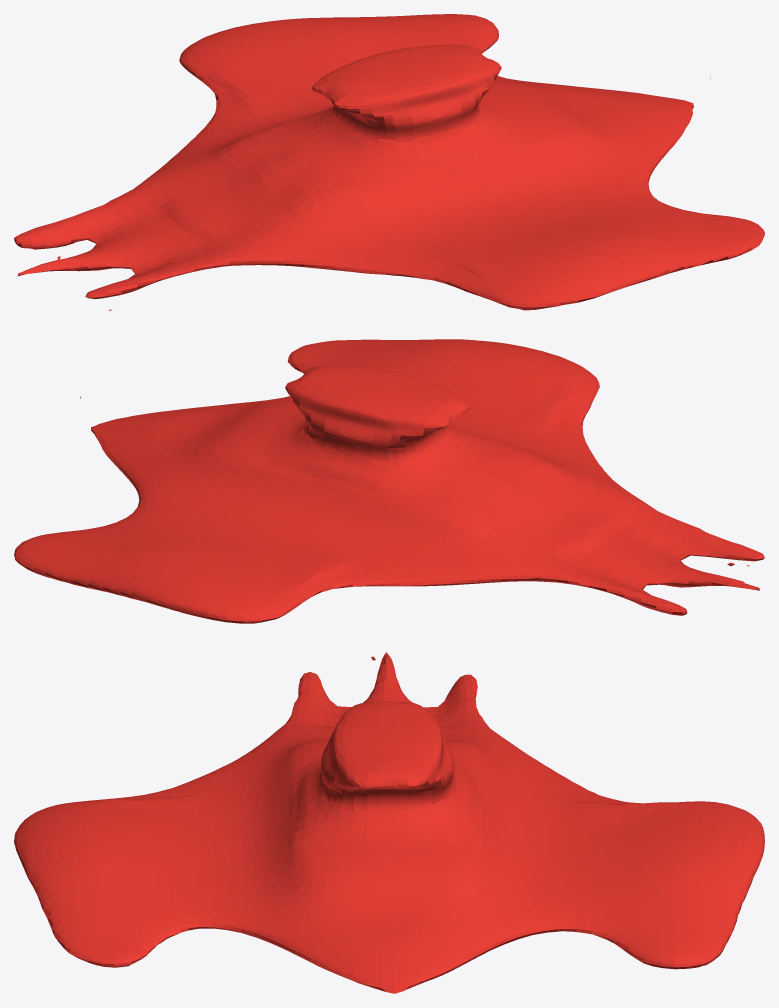
The model's file is drone-bird.fbx.
The picture shows the model from 3 angles, top to bottom: view 1: azimuth 30°, elevation 25°; view 2: azimuth 150°, elevation 25°; view 3: azimuth 270°, elevation 25°; orthographic projection. The views are drawn at different scales.
Visible parts, largest first — view 1: Cube; view 2: Cube; view 3: Cube.
Part boxes in pixels (x1,y1,x2,y2): Cube: (14, 14, 764, 310); Cube: (14, 339, 764, 623); Cube: (14, 652, 764, 993).
Size of the model in its own units: 169 by 30.5 by 153.
